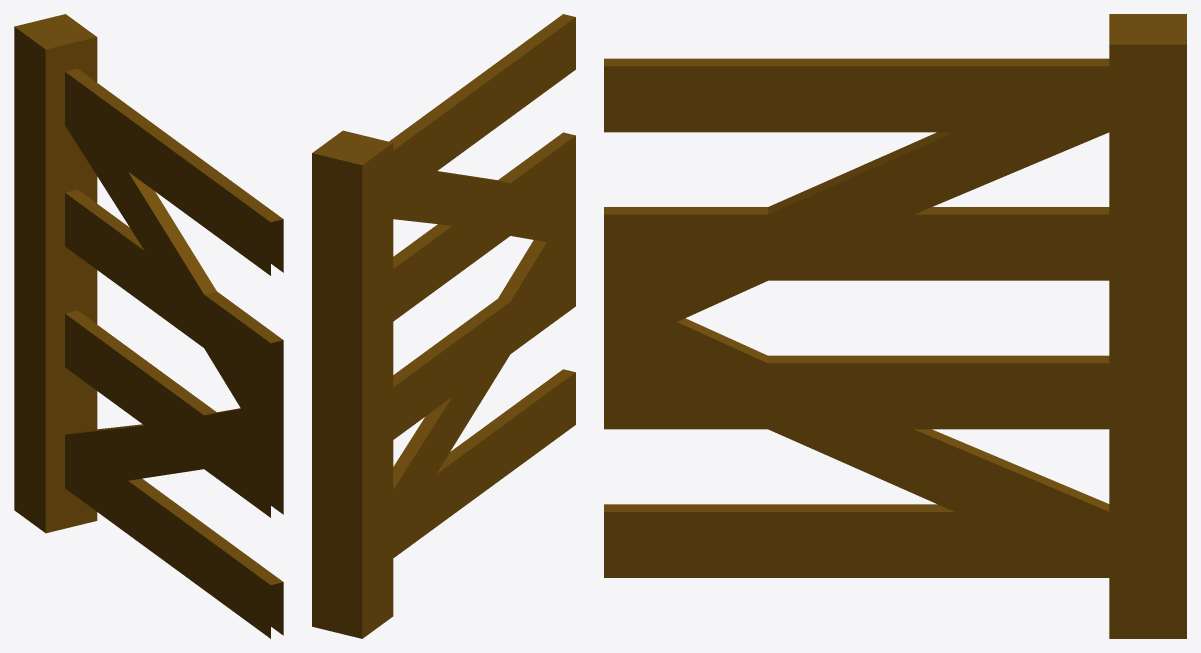
Rendered from obj_wooden_gate_2_0.obj.
The picture shows the model from 3 angles, left to right: view 1: azimuth 30°, elevation 25°; view 2: azimuth 150°, elevation 25°; view 3: azimuth 270°, elevation 25°; orthographic projection. The views are drawn at different scales.
Size of the model in its own units: 0.125 by 1.12 by 1.
